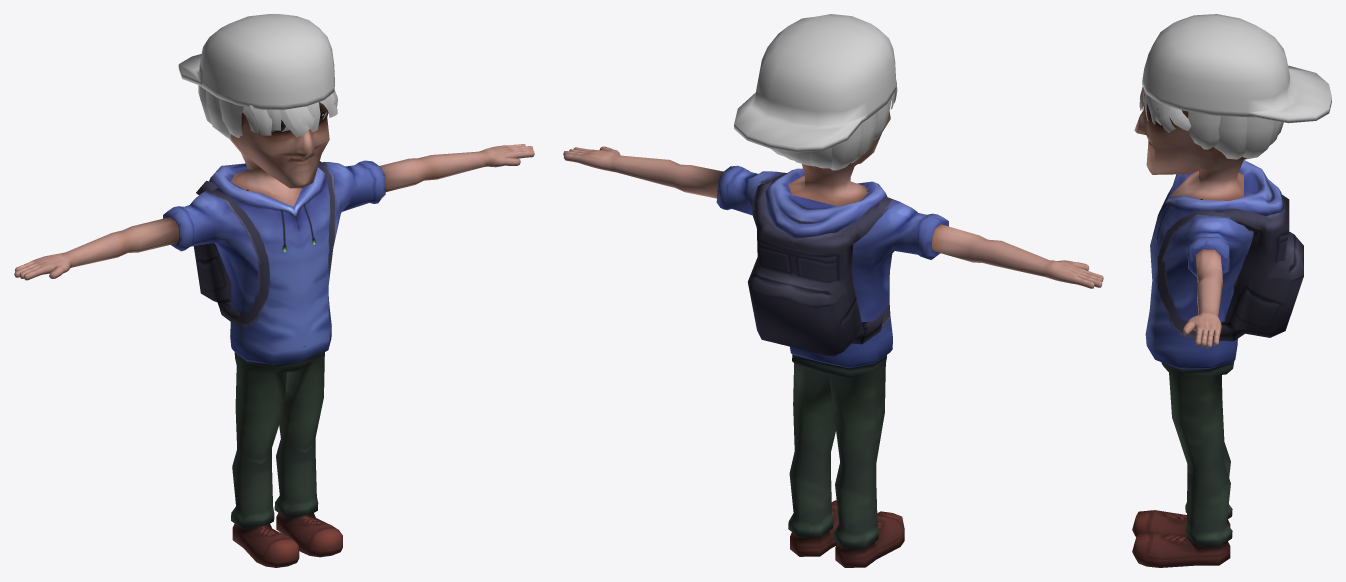
Rendered from Lib_Player.fbx.
The picture shows the model from 3 angles, left to right: view 1: azimuth 30°, elevation 25°; view 2: azimuth 150°, elevation 25°; view 3: azimuth 270°, elevation 25°; orthographic projection. The views are drawn at different scales.
Visible parts, largest first — view 1: Player; view 2: Player; view 3: Player.
Boxes of the visible parts, <box> form: Player: <box>14,14,534,567</box>; Player: <box>563,14,1103,567</box>; Player: <box>1132,14,1331,567</box>.
Bounding box in the file's own units: 410 × 386 × 134.
